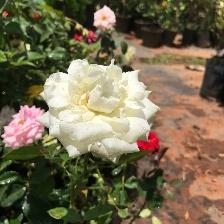rose: (38, 60, 164, 165)
